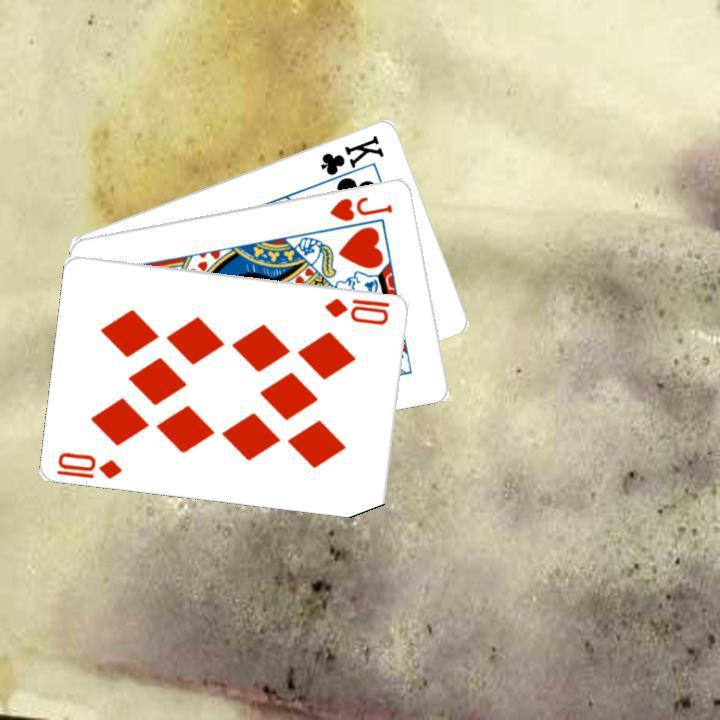10: (52, 447, 125, 481), (321, 293, 392, 327)
J: (325, 191, 395, 223)
K: (315, 130, 386, 187)
